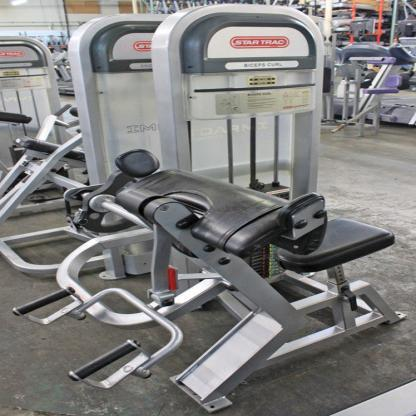arm curl machine: (14, 151, 406, 414)
